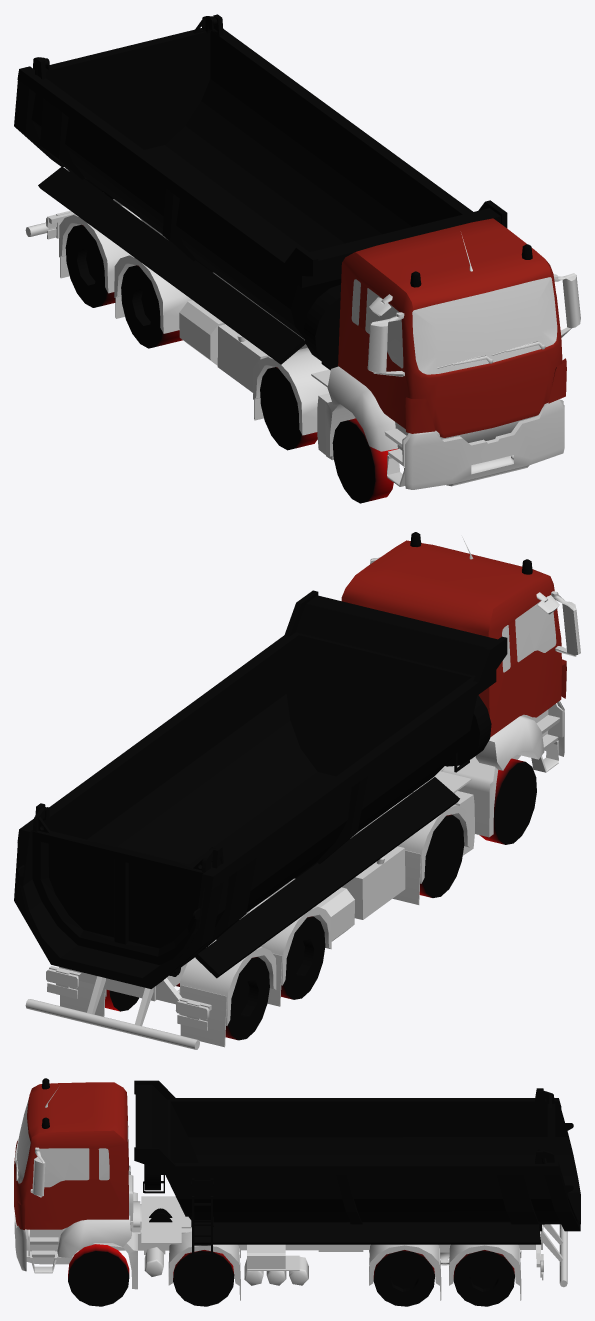
File: HalfpipeTruck_IOS.fbx
The picture shows the model from 3 angles, top to bottom: view 1: azimuth 30°, elevation 25°; view 2: azimuth 150°, elevation 25°; view 3: azimuth 270°, elevation 25°; orthographic projection. The views are drawn at different scales.
Parts seen in each view (by area): view 1: body, wheels, windows; view 2: body, wheels, windows; view 3: body, wheels, windows.
Boxes of the visible parts, box(x1,y1,x2,y2) form: body: box(14, 14, 580, 489); wheels: box(65, 224, 393, 503); windows: box(351, 277, 557, 374); body: box(14, 532, 580, 1049); wheels: box(105, 758, 536, 1040); windows: box(502, 601, 556, 672); body: box(14, 1078, 580, 1300); wheels: box(68, 1244, 514, 1306); windows: box(15, 1100, 128, 1187).
Bounding box in the file's own units: 0.028 × 0.034 × 0.0897.
